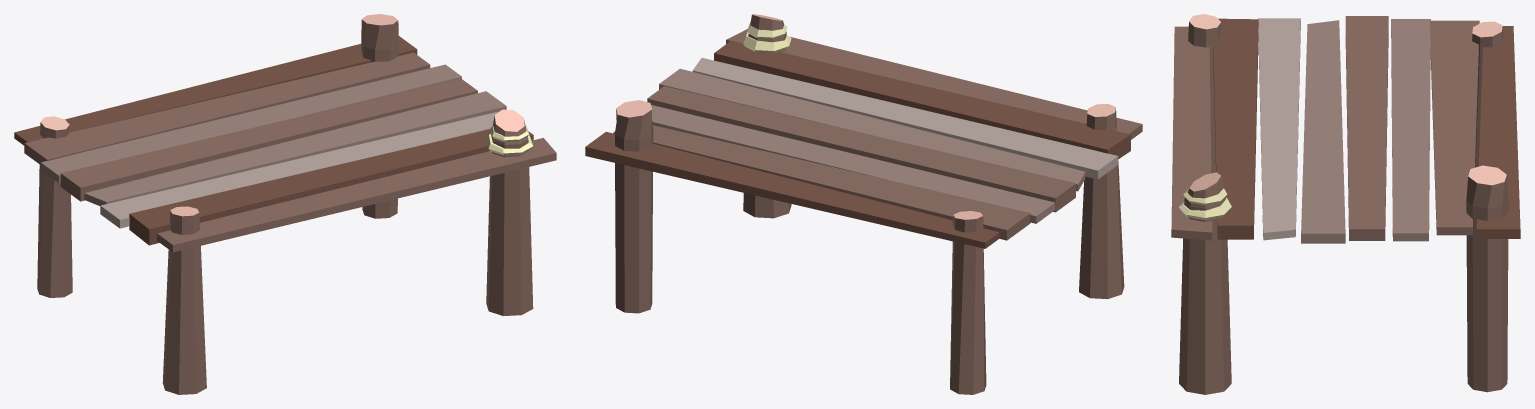
Rendered from Building_002.glb.
3 views of the same model, side by side, from view 1: azimuth 30°, elevation 25°; view 2: azimuth 150°, elevation 25°; view 3: azimuth 270°, elevation 25° (orthographic). The views are drawn at different scales.
Parts seen in each view (by area): view 1: Building_002; view 2: Building_002; view 3: Building_002.
Boxes of the visible parts, x1,y1,x2,y2 form: Building_002: (14,14,556,394); Building_002: (585,14,1142,394); Building_002: (1171,14,1520,394).
Size of the model in its own units: 9.78 by 4.45 by 6.69.
Materials: 1 (1 with a texture image).
